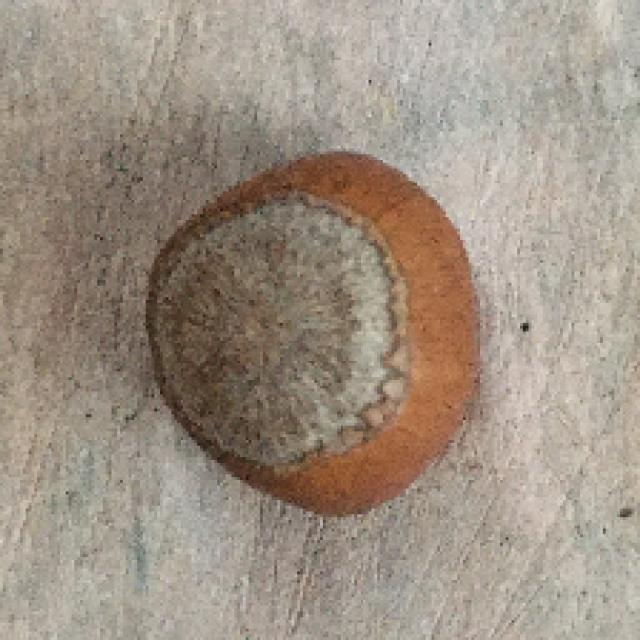DamagedHazelnut: (152, 151, 488, 517)
